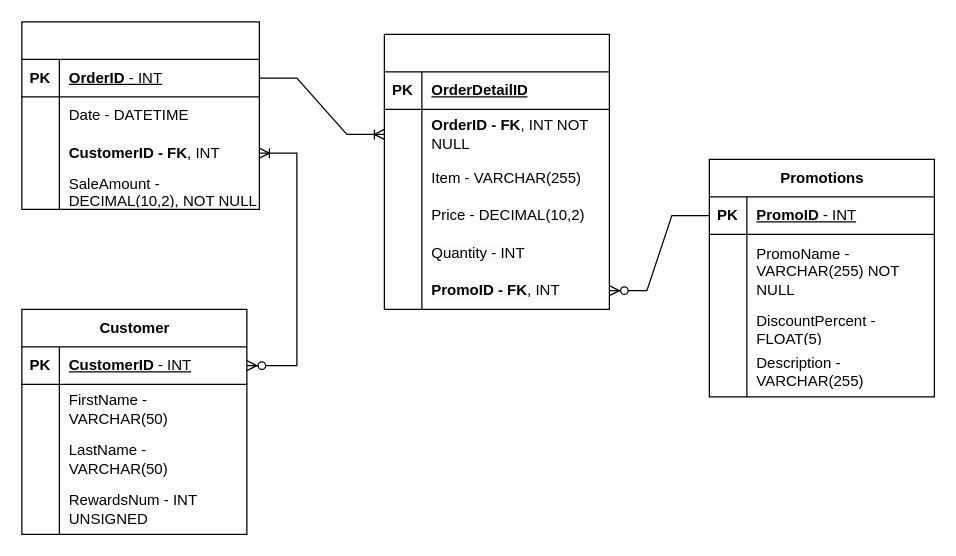
Some shapes in this 956 by 556 pixel diagram are drawn without their labels. Each missing label, with the box of its shape:
OrderDetails: (383, 33, 609, 309)
Orders: (21, 21, 259, 209)
